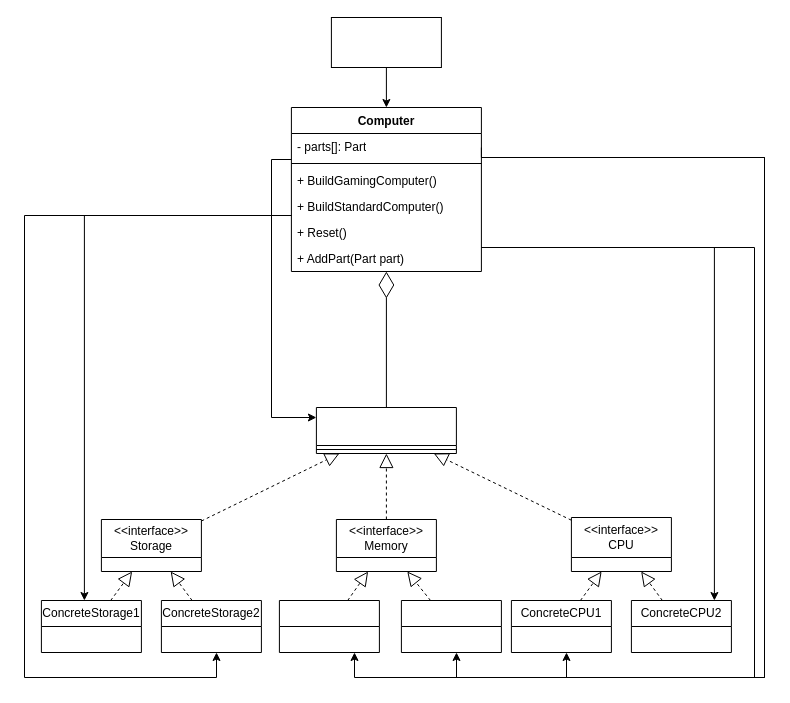
Some shapes in this 790 by 703 pixel diagram are drawn without their labels. The centre of each missing label's shape, as x and y in pixels:
"<<interface>> Part" goes at (x=385, y=430).
"Client" goes at (x=385, y=42).
"ConcreteMemory1" goes at (x=328, y=626).
"ConcreteMemory2" goes at (x=450, y=626).
